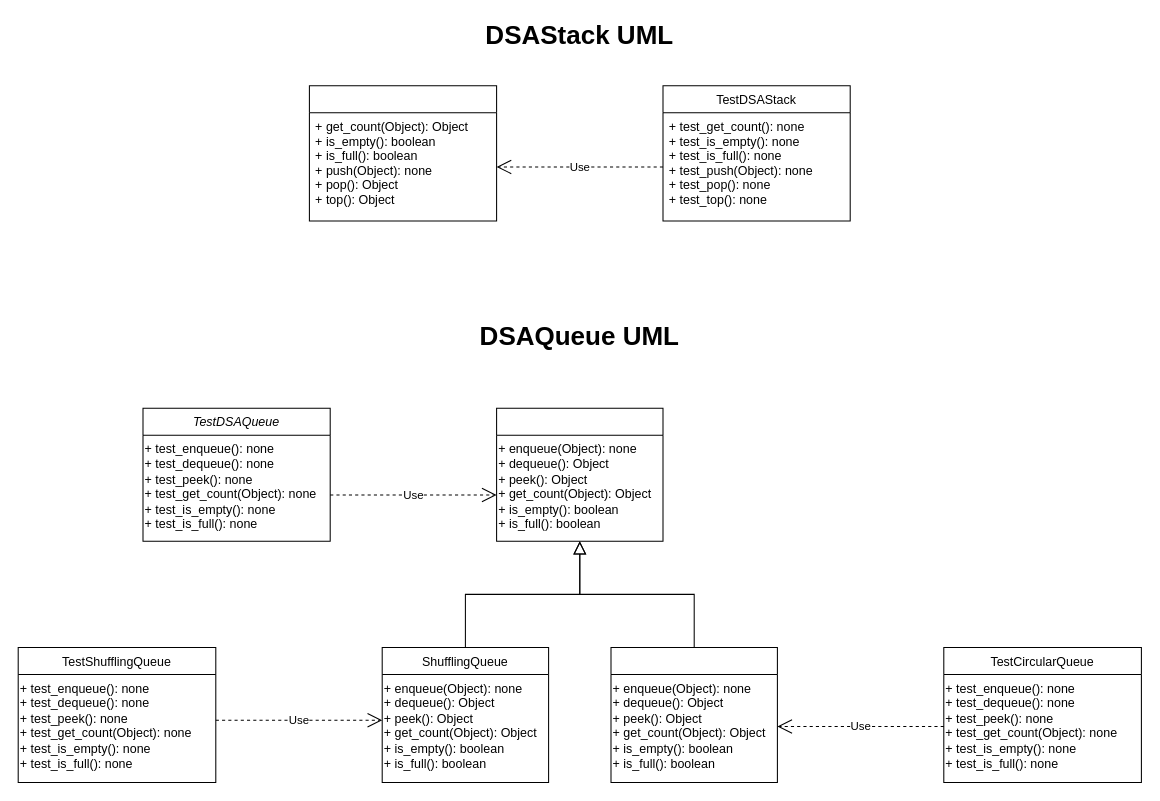
Some shapes in this 1160 by 801 pixel diagram are drawn without their labels. The shapes that lost their labels are listed below. From the top down, each one's box as (x1, y1, x2, y2) in pixels, then its label:
(308, 85, 497, 221): DSAStack
(496, 407, 663, 541): DSAQueue
(610, 646, 777, 783): CircularQueue
